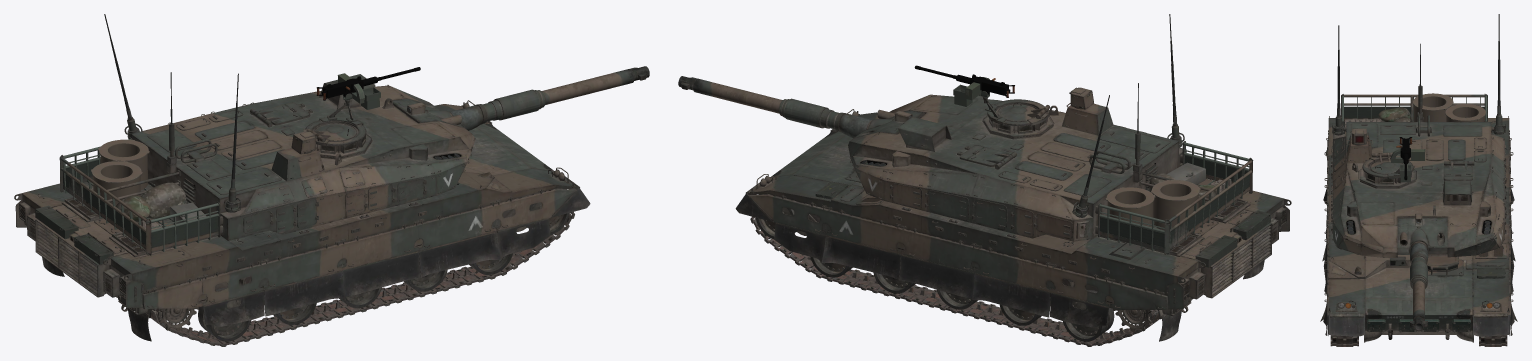
Rendered from jp-type10.glb.
3 renders of one model, left to right at view 1: azimuth 30°, elevation 25°; view 2: azimuth 150°, elevation 25°; view 3: azimuth 270°, elevation 25°, orthographic. The views are drawn at different scales.
Parts seen in each view (by area): view 1: root; view 2: root; view 3: root.
Boxes of the visible parts, box(x1,y1,x2,y2) form: root: box(14, 14, 649, 346); root: box(678, 14, 1291, 346); root: box(1320, 14, 1517, 346).
Size of the model in its own units: 9.5 by 4.16 by 3.42.
Materials: 4 (4 with a texture image).
